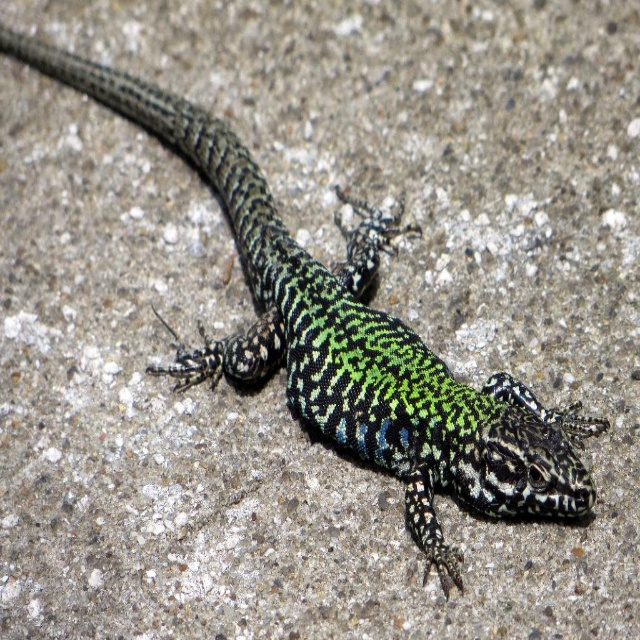Lizard: (4, 27, 607, 599)
